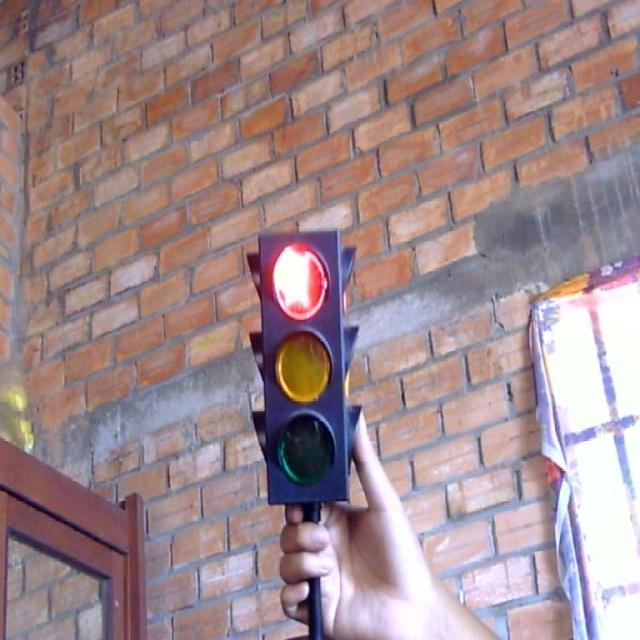red light: (268, 236, 334, 326)
